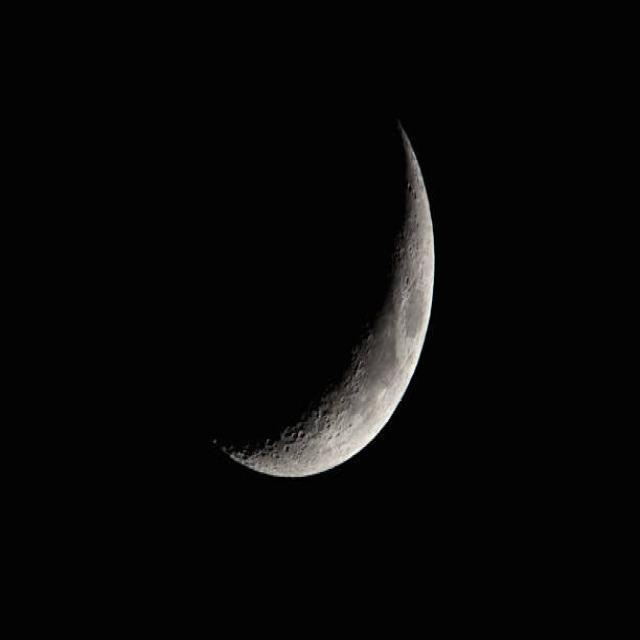moon: (168, 94, 436, 491)
